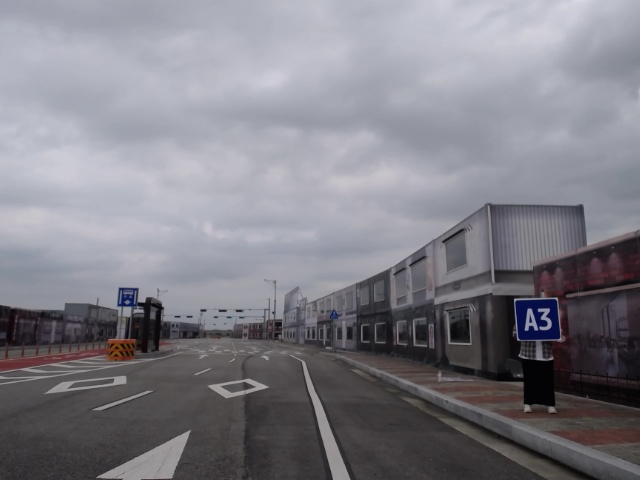delivery_a3: (515, 299, 561, 341)
